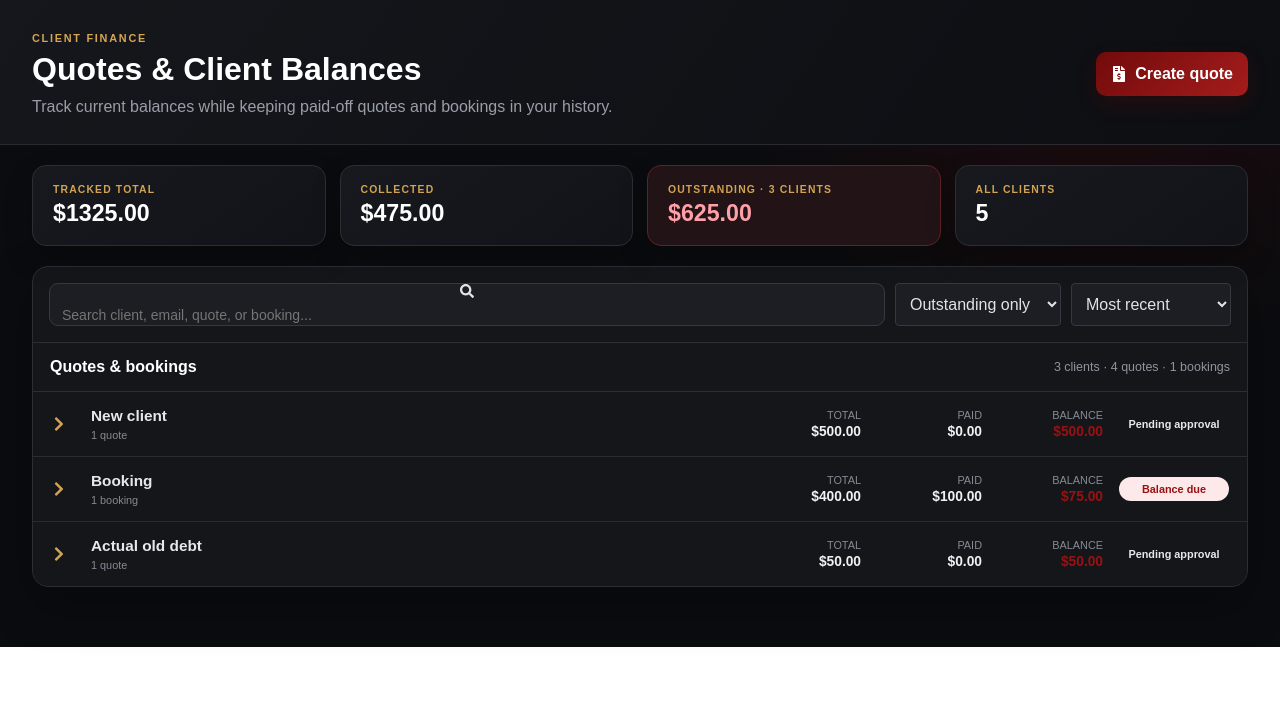
Test case: paid legacy clients stay in history but not outstanding; age never hides real debt
Check: the button "New client" is shown, box [33,392,1247,456]
Check: the button "Actual old debt" is shown, box [33,522,1247,586]
Select "All records" in the dropdown named "Balance filter" at coordinates (978, 304), box [895,283,1061,326]
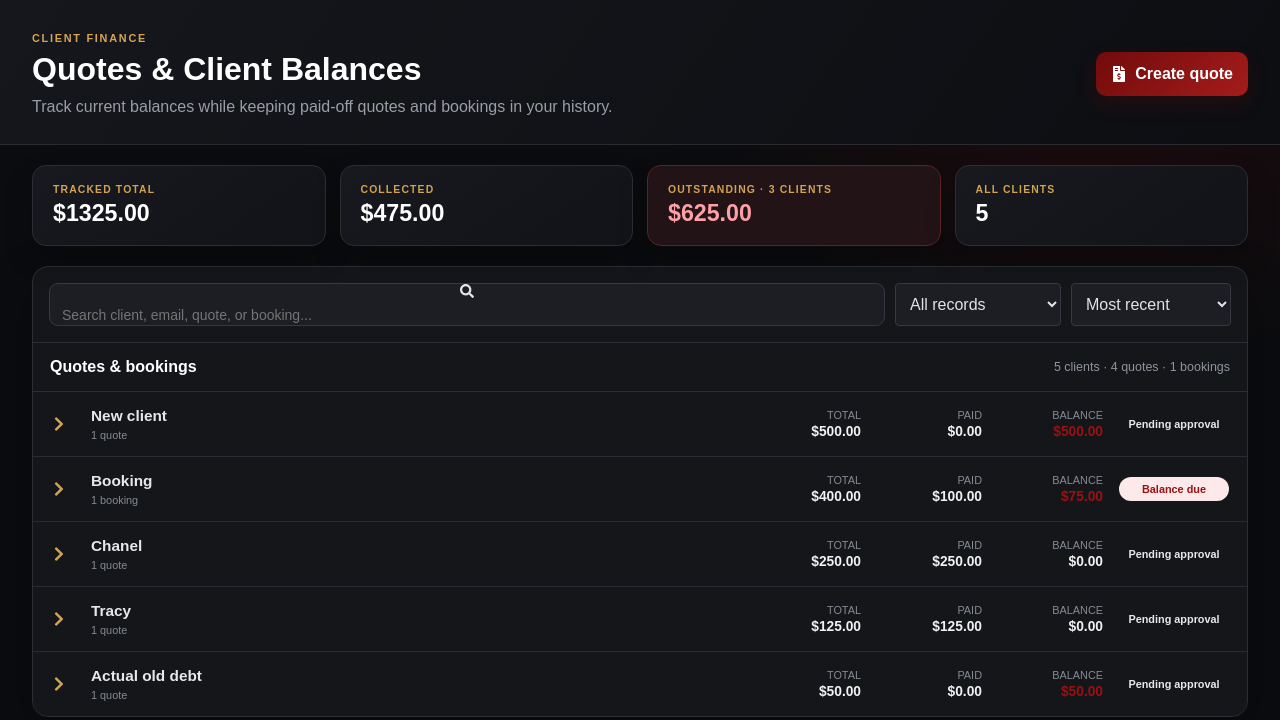
Check: the button "Chanel" is shown, box [33,522,1247,586]
Check: the button "Tracy" is shown, box [33,587,1247,651]
